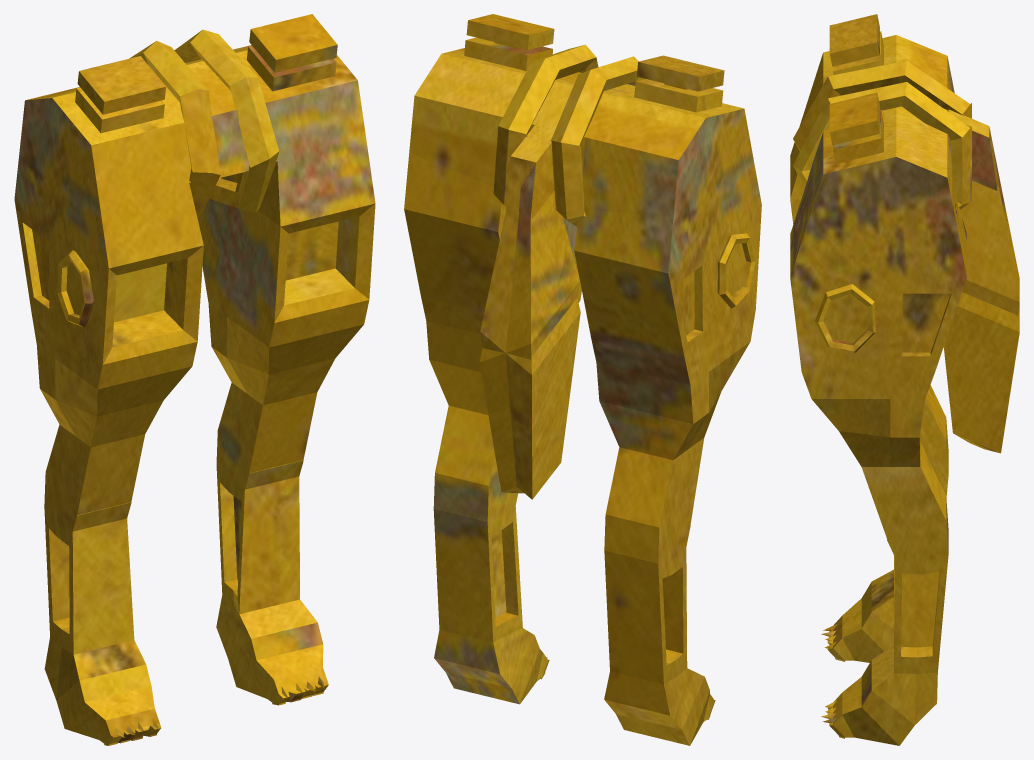
File: wolfLegsNew.fbx
The picture shows the model from 3 angles, left to right: view 1: azimuth 30°, elevation 25°; view 2: azimuth 150°, elevation 25°; view 3: azimuth 270°, elevation 25°; orthographic projection. The views are drawn at different scales.
Visible parts, largest first — view 1: Wolflegs; view 2: Wolflegs; view 3: Wolflegs.
Boxes of the visible parts, x1,y1,x2,y2 form: Wolflegs: (14, 14, 375, 745); Wolflegs: (404, 14, 761, 745); Wolflegs: (790, 14, 1019, 745).
Bounding box in the file's own units: 191 × 429 × 143.
